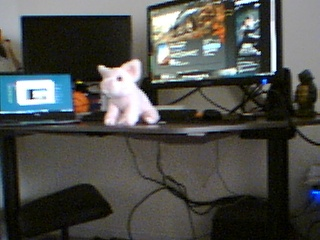piggy: (96, 58, 161, 130)
